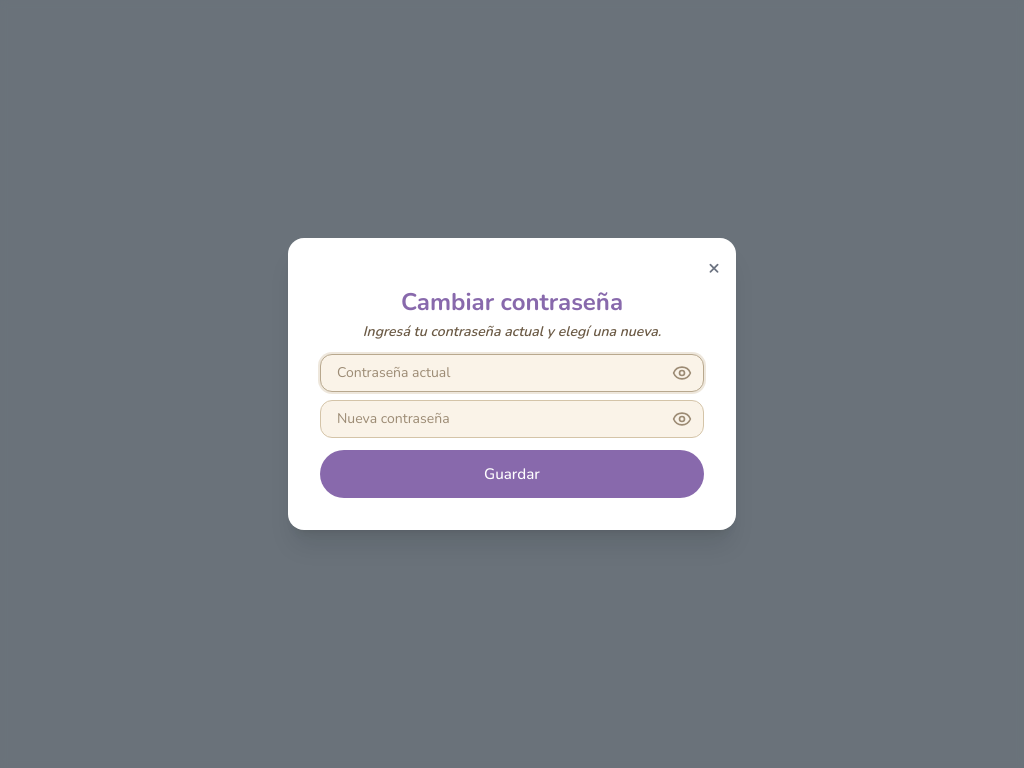
Test case: ChangePasswordModal › muestra error si la nueva contraseña tiene menos de 6 caracteres
Step 1. Type "password123" into the password field with placeholder "Contraseña actual" → (512, 373), box [320, 354, 704, 392]
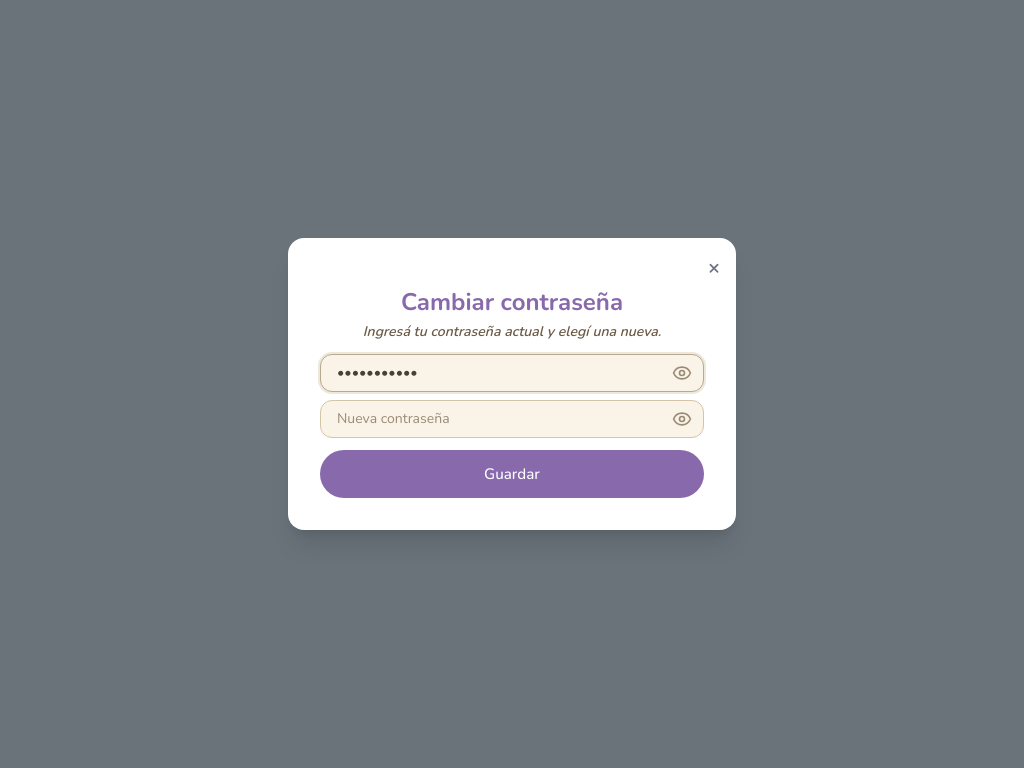
Step 2. Type "123" into the password field with placeholder "Nueva contraseña" → (512, 419), box [320, 400, 704, 438]
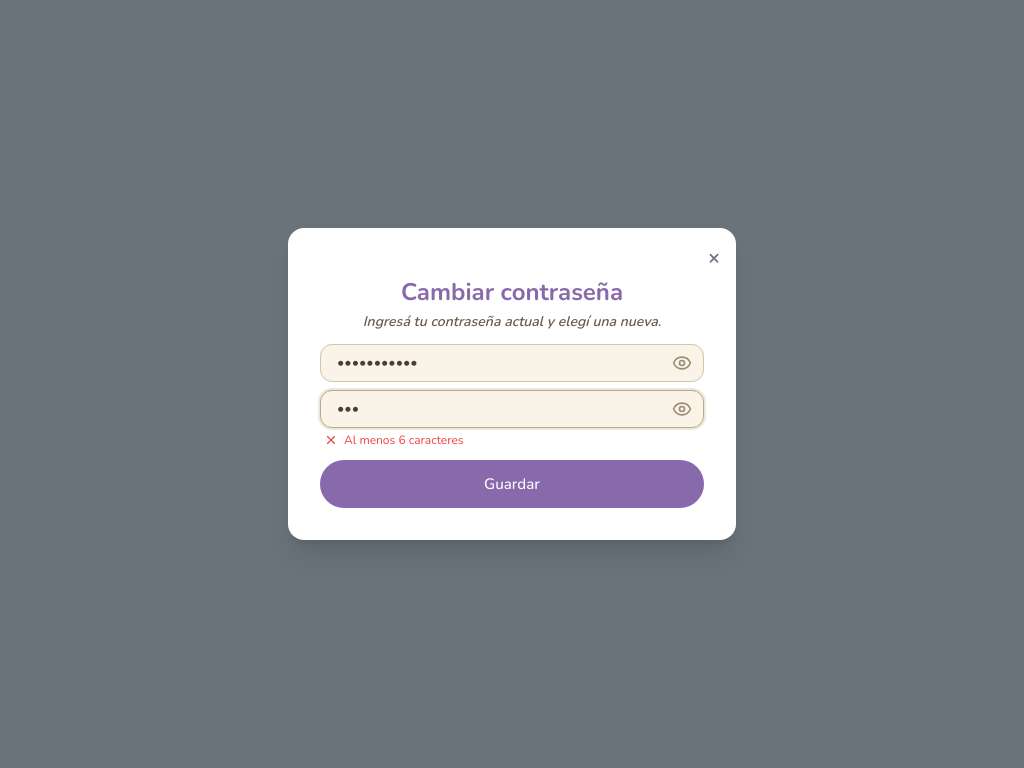
Step 3. Click the button "Guardar" → (512, 484), box [320, 460, 704, 508]
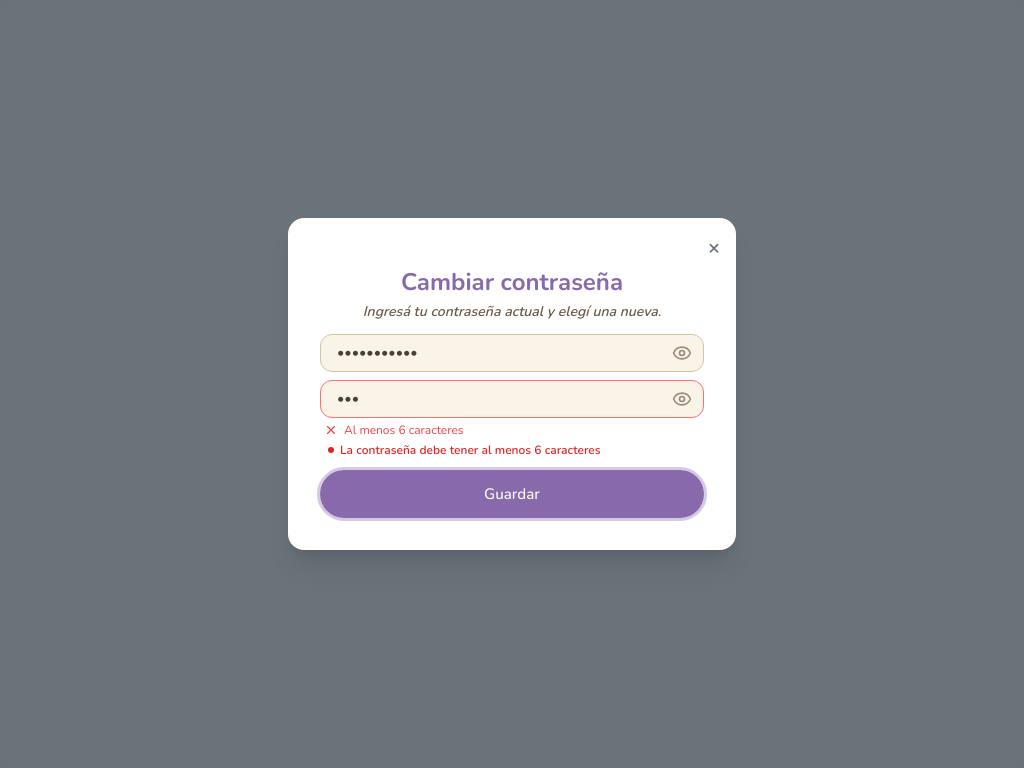
Expected: the text "La contraseña debe tener al menos 6 caracteres" is shown, [328, 442, 601, 458]
